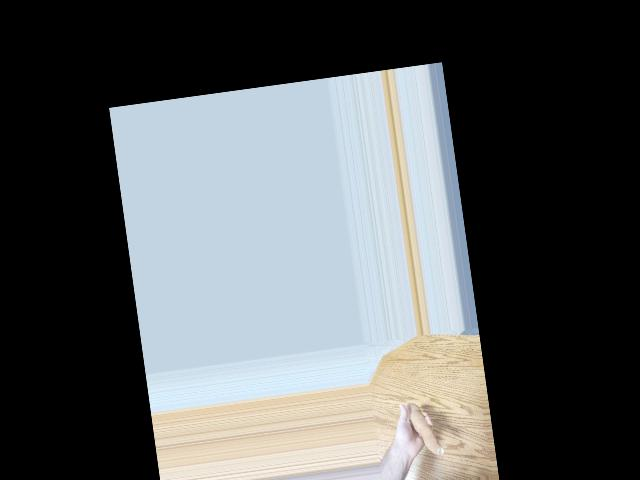sweet_potato: (407, 397, 443, 459)
